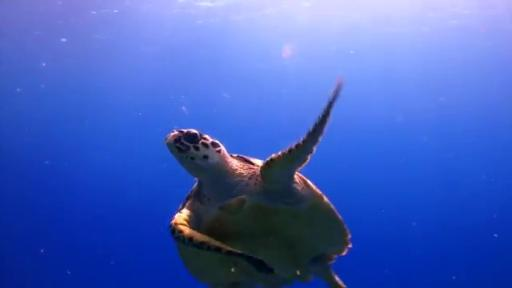Fish: (165, 79, 351, 287), (177, 242, 293, 287)
